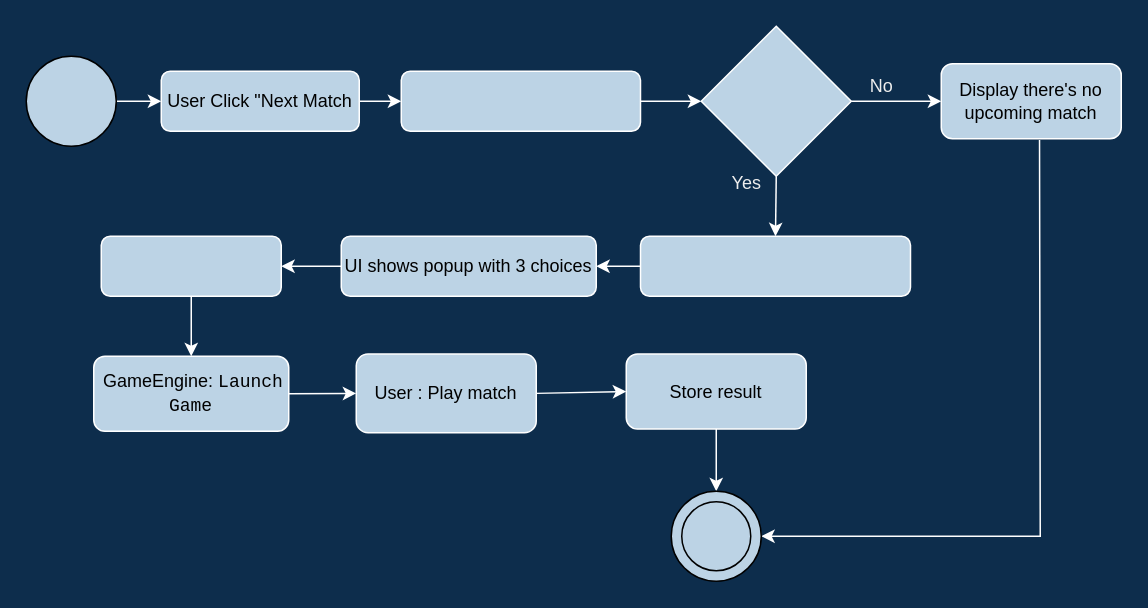
Image size: 1148x608. Some labels were removed from this diagram. The centre of each missing label's shape, as x and y in pixels:
Fetch match info (next-match): the point at 774,265
If there is a match: the point at 520,100
Play Match: the point at 190,265
